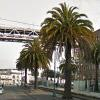Palm tree: (25, 9, 90, 89)
